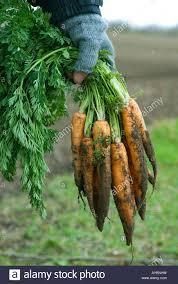Organic: (1, 3, 178, 263)
